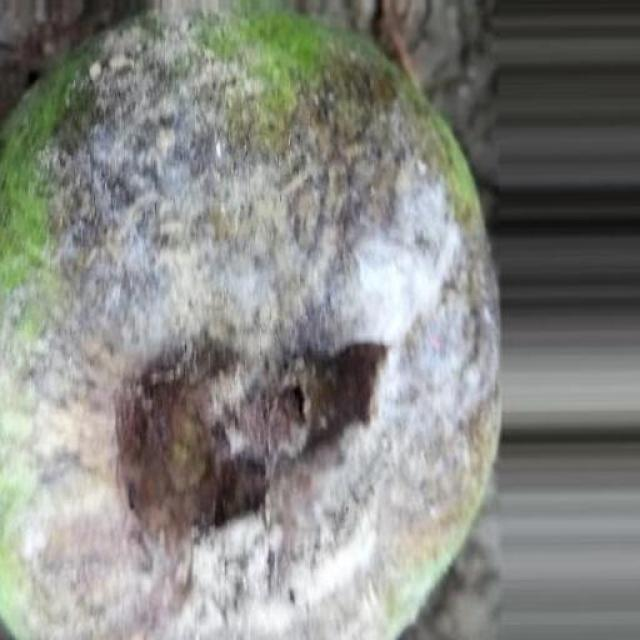Phytopthora: (0, 14, 498, 640)
